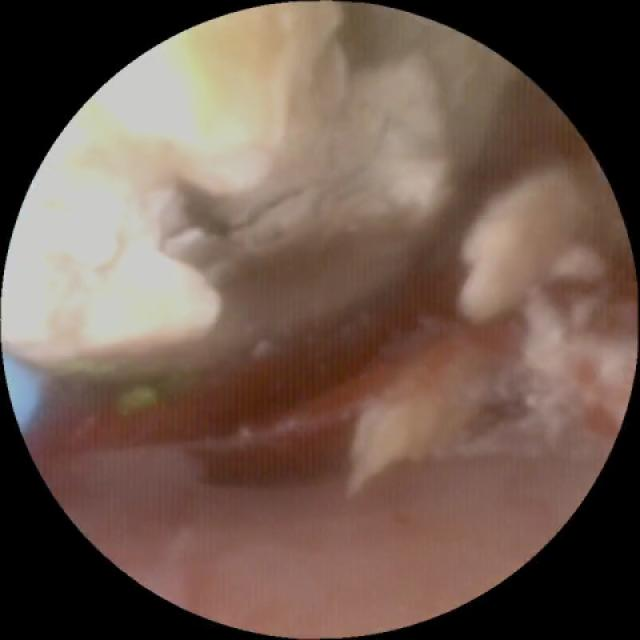fiber: (8, 363, 38, 425)
stone: (9, 7, 459, 374), (353, 334, 490, 492), (456, 157, 578, 319)
